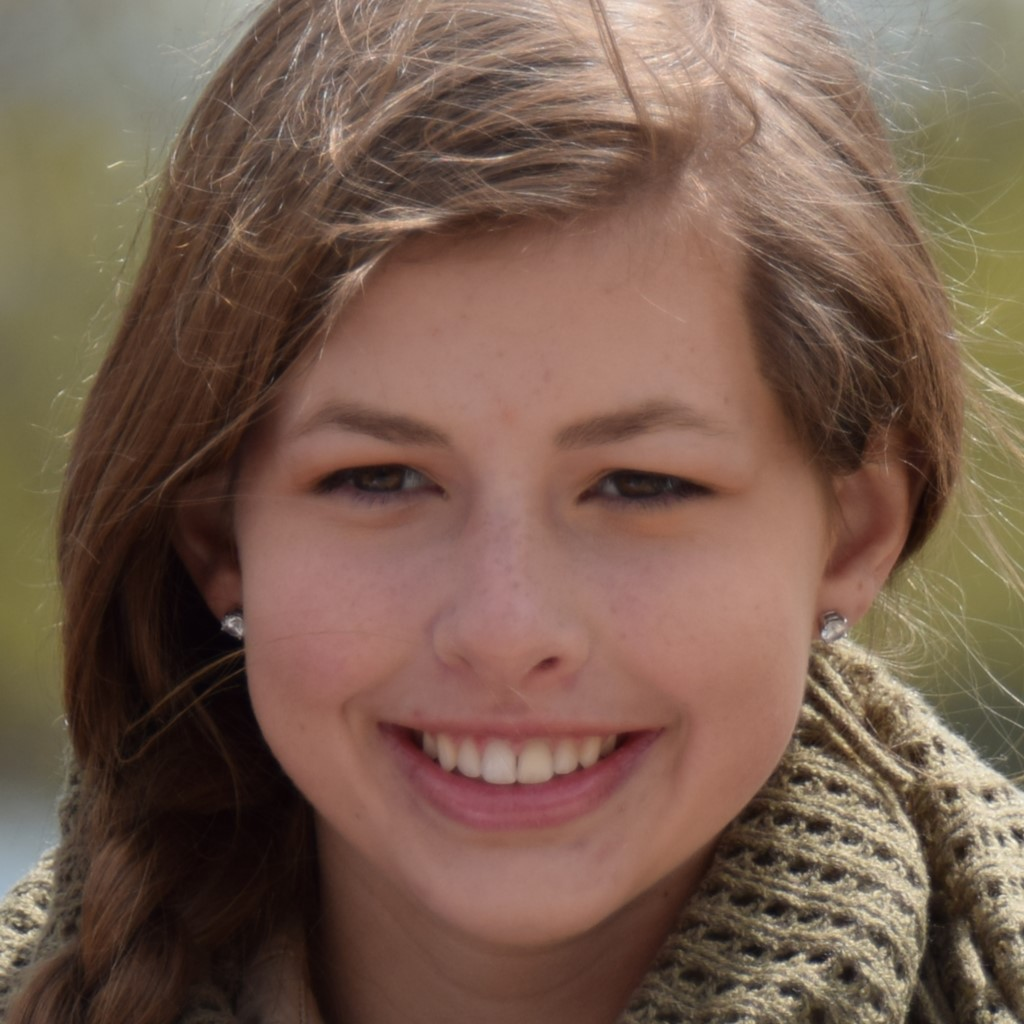sin_mascara: (170, 14, 910, 954)
